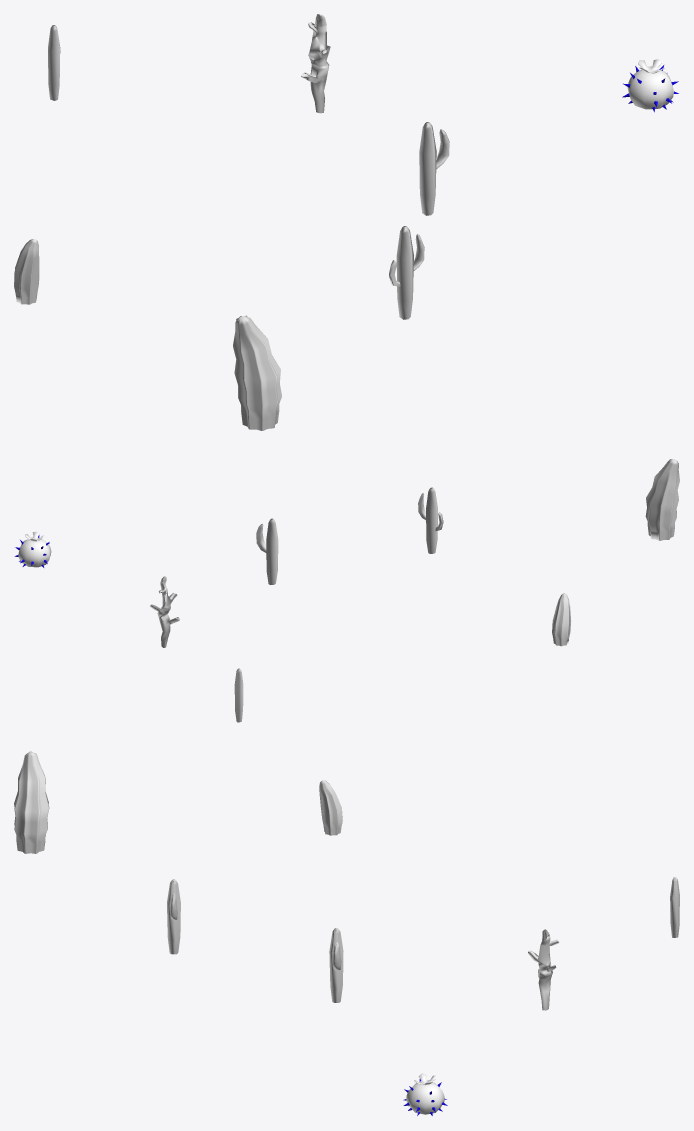
File: full_cactus.fbx
3 renders of one model, top to bottom at view 1: azimuth 30°, elevation 25°; view 2: azimuth 150°, elevation 25°; view 3: azimuth 270°, elevation 25°, orthographic. The views are drawn at different scales.
Visible parts, largest first — view 1: cactus4, cactus2, Cactus_3, cactus1, cactus6, cactus5, cactus3; view 2: cactus4, cactus2, Cactus_3, cactus1, cactus5, cactus6, cactus3; view 3: cactus4, Cactus_3, cactus6, cactus5, cactus2, cactus1.
Boxes of the visible parts, box(x1,y1,x2,y2) form: cactus4: box(233, 315, 281, 430); cactus2: box(389, 226, 424, 319); Cactus_3: box(622, 59, 678, 112); cactus1: box(419, 122, 449, 215); cactus6: box(301, 14, 330, 113); cactus5: box(14, 239, 39, 304); cactus3: box(48, 25, 60, 100); cactus4: box(645, 459, 679, 540); cactus2: box(418, 487, 443, 553); Cactus_3: box(14, 531, 51, 567); cactus1: box(256, 518, 278, 584); cactus5: box(552, 593, 571, 646); cactus6: box(150, 576, 179, 647); cactus3: box(234, 668, 243, 722); cactus4: box(14, 751, 49, 853); Cactus_3: box(403, 1073, 447, 1115); cactus6: box(528, 929, 559, 1010); cactus5: box(319, 780, 342, 835); cactus2: box(167, 879, 180, 954); cactus1: box(329, 928, 343, 1002).
Size of the model in its own units: 3316 by 564 by 3313.
